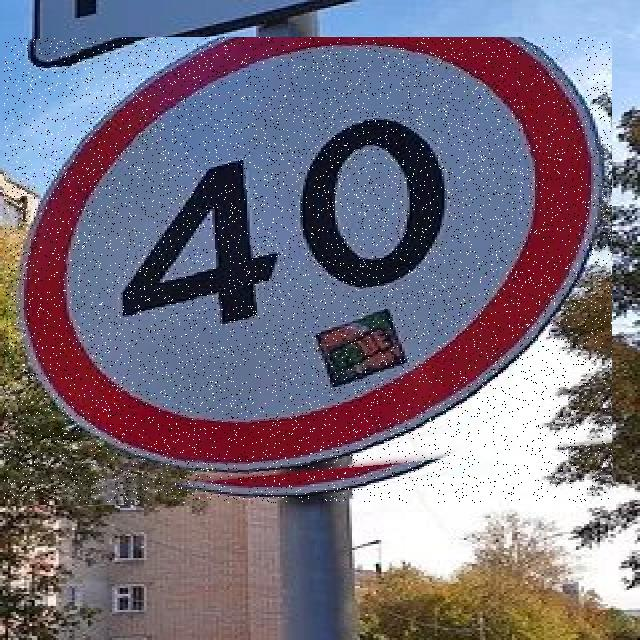speed limit 40: (4, 38, 612, 504)
